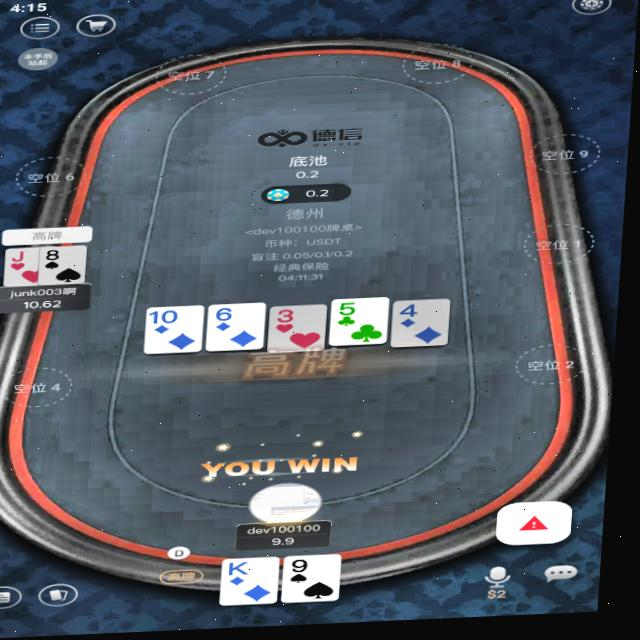10f: (152, 310, 186, 327)
3h: (279, 311, 303, 327)
4f: (402, 306, 426, 322)
5m: (341, 304, 365, 320)
6f: (217, 307, 241, 325)
8s: (47, 249, 66, 262)
9s: (295, 560, 321, 578)
Jh: (12, 249, 32, 263)
Kf: (234, 564, 256, 580)
